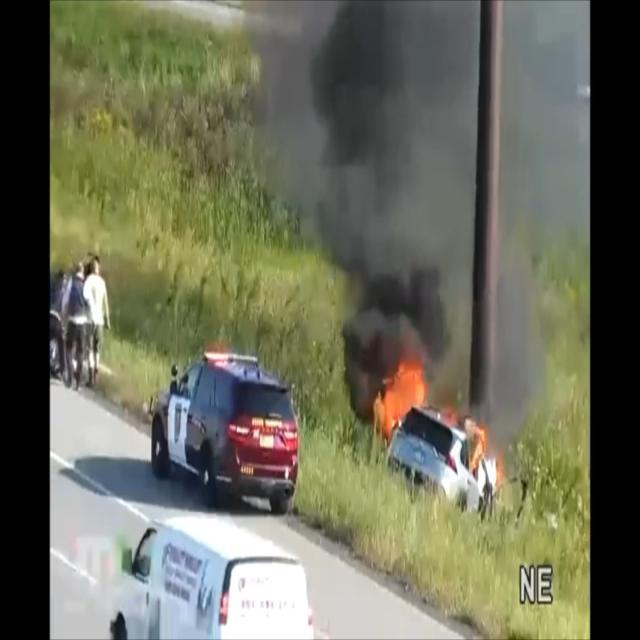fire: (438, 401, 506, 485), (370, 353, 430, 431)
